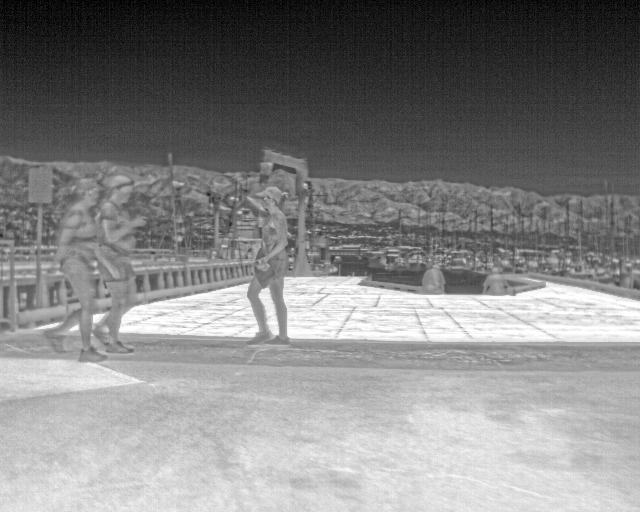empty: (42, 179, 105, 367), (93, 172, 146, 357), (243, 182, 291, 346), (478, 265, 516, 297), (419, 258, 448, 296)
